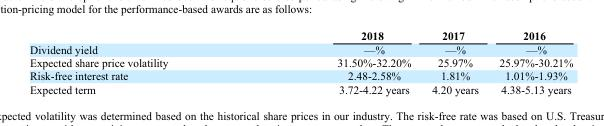table: (28, 28, 572, 94)
table column: (28, 28, 252, 94), (252, 28, 420, 94), (488, 28, 572, 94), (420, 28, 488, 94)
table column header: (28, 28, 572, 42)
table row: (28, 28, 572, 42), (28, 42, 572, 56), (28, 56, 572, 69), (28, 69, 572, 82), (28, 82, 572, 94)
